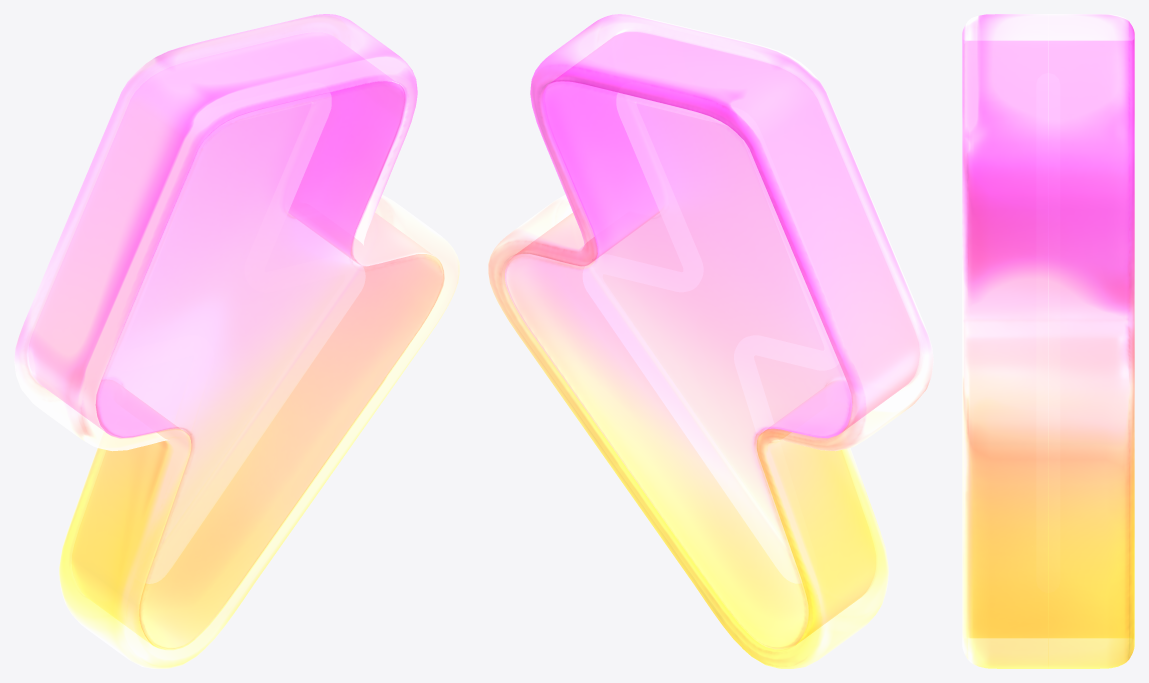
Rendered from XP_Pink_V2.glb.
3 renders of one model, left to right at view 1: azimuth 30°, elevation 25°; view 2: azimuth 150°, elevation 25°; view 3: azimuth 270°, elevation 25°, orthographic. The views are drawn at different scales.
Visible parts, largest first — view 1: мат с г; view 2: мат с г; view 3: мат с г.
Boxes of the visible parts, x1,y1,x2,y2 form: мат с г: (14, 14, 459, 668); мат с г: (488, 14, 933, 668); мат с г: (962, 14, 1134, 668).
Size of the model in its own units: 0.0767 by 0.1069 by 0.0246.
Materials: 3 (3 with a texture image).
